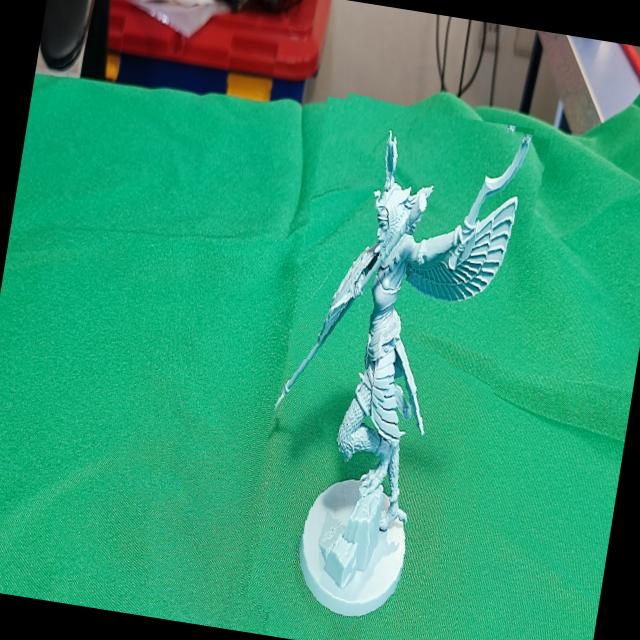isis: (238, 92, 544, 640)
